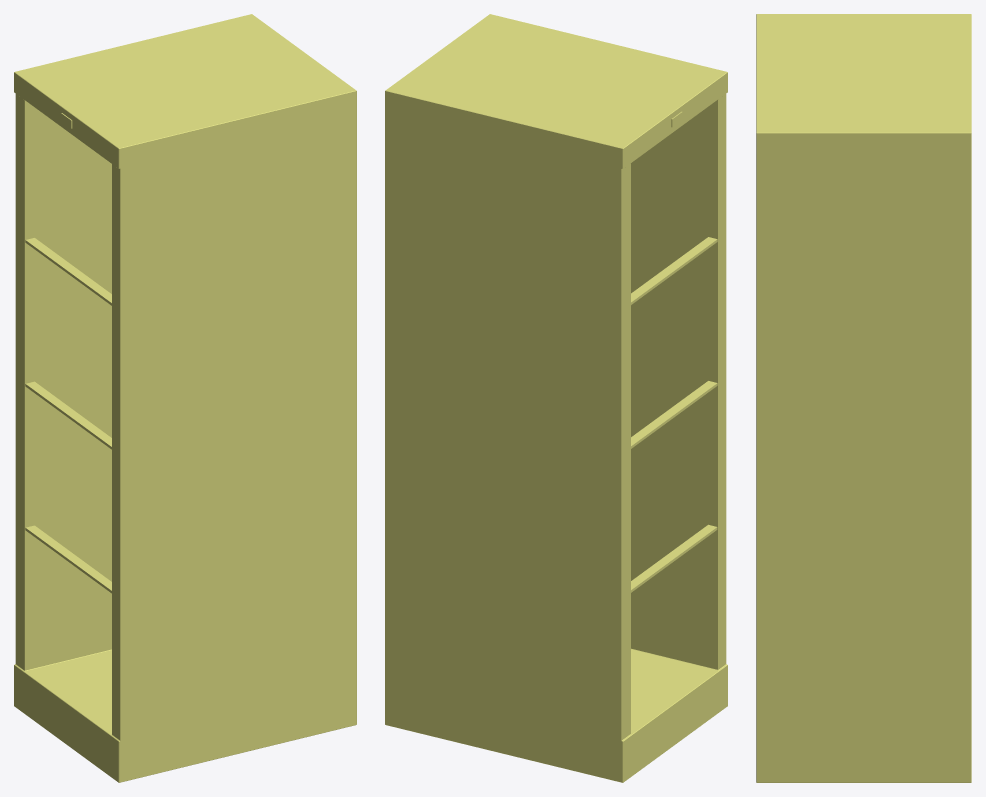
File: Cabinat_tall_v01_01_alsu.fbx
3 renders of one model, left to right at view 1: azimuth 30°, elevation 25°; view 2: azimuth 150°, elevation 25°; view 3: azimuth 270°, elevation 25°, orthographic. The views are drawn at different scales.
Parts seen in each view (by area): view 1: geo_cabinatTall_02; view 2: geo_cabinatTall_02; view 3: geo_cabinatTall_02.
Part boxes in pixels (bbox=[...]): geo_cabinatTall_02: bbox=[14, 14, 356, 782]; geo_cabinatTall_02: bbox=[385, 14, 727, 782]; geo_cabinatTall_02: bbox=[756, 14, 971, 782].
Size of the model in its own units: 67.5 by 171 by 51.3.
